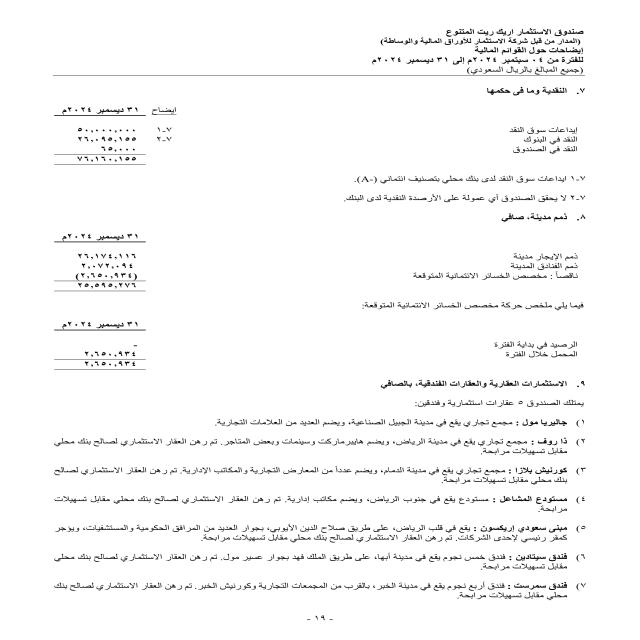notes: (458, 46, 590, 54)
table: (24, 100, 193, 175), (36, 218, 160, 294), (31, 313, 155, 381)
